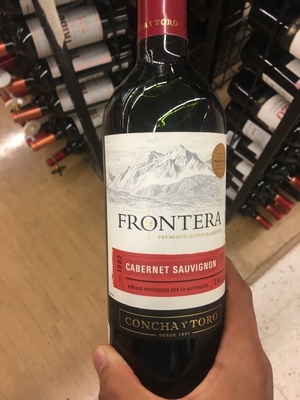frontera cabernet sauvignon: (101, 21, 240, 377)
